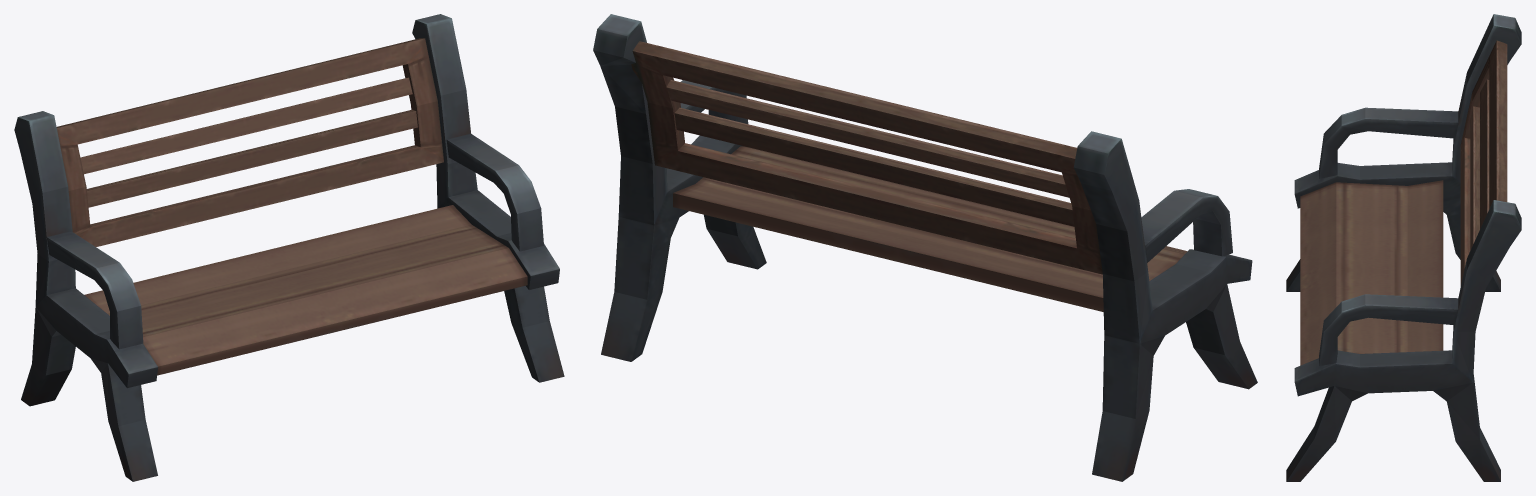
Rendered from scene_luoliante_yz01.FBX.
3 renders of one model, left to right at view 1: azimuth 30°, elevation 25°; view 2: azimuth 150°, elevation 25°; view 3: azimuth 270°, elevation 25°, orthographic. The views are drawn at different scales.
Parts seen in each view (by area): view 1: scene_luoliante_yz01; view 2: scene_luoliante_yz01; view 3: scene_luoliante_yz01.
Boxes of the visible parts, <box> form: scene_luoliante_yz01: <box>14,14,564,481</box>; scene_luoliante_yz01: <box>593,14,1257,481</box>; scene_luoliante_yz01: <box>1286,14,1521,481</box>.
Size of the model in its own units: 140 by 86.76 by 68.98.
